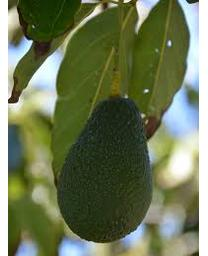avocado: (55, 96, 150, 243)
